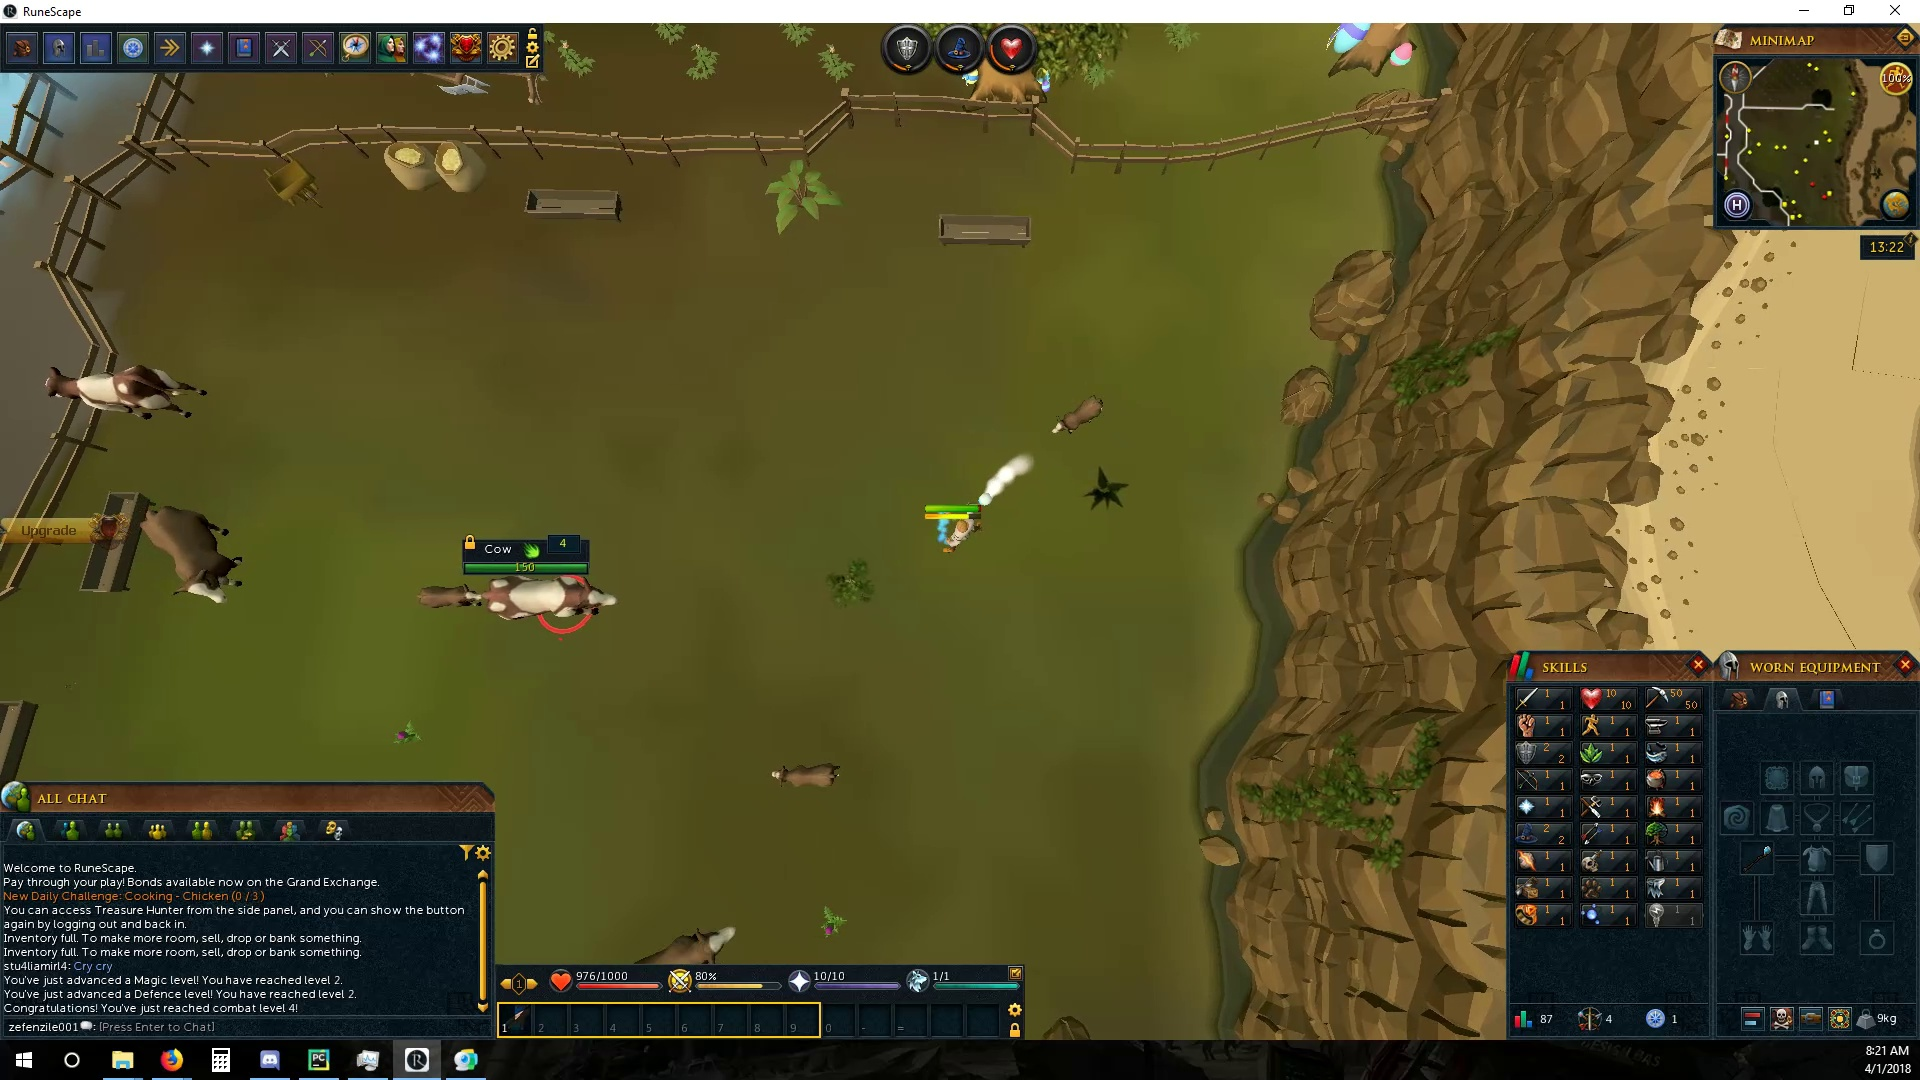calf: (1048, 394, 1106, 440), (765, 760, 843, 790), (411, 585, 487, 611)
cow: (138, 498, 244, 607), (44, 359, 216, 418), (484, 576, 624, 628), (622, 919, 742, 965)
